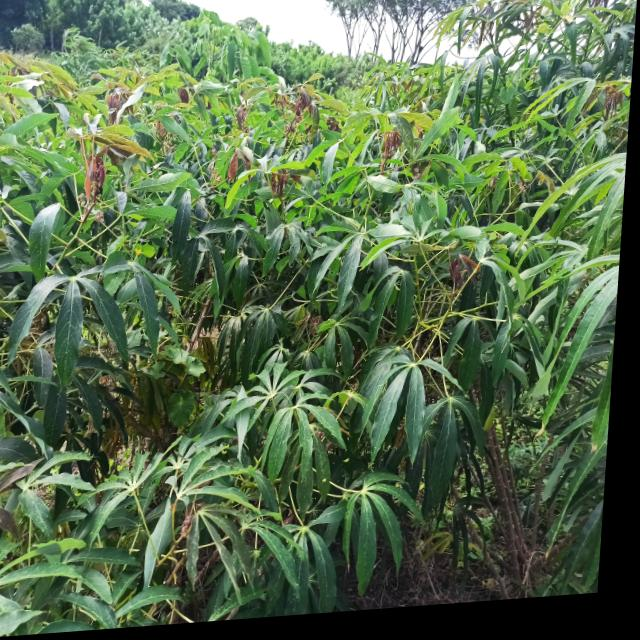Mosca: (46, 355, 66, 381), (240, 335, 253, 358), (390, 276, 407, 293), (54, 520, 70, 538), (317, 471, 334, 487), (285, 332, 298, 352), (268, 469, 283, 486), (558, 336, 575, 349), (337, 451, 351, 466), (62, 403, 78, 416), (387, 341, 399, 355)
